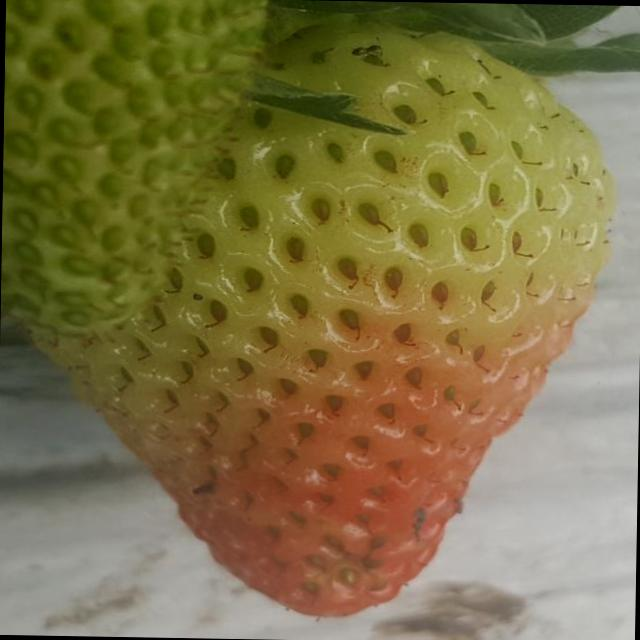Strawberry: (11, 0, 621, 622), (0, 0, 254, 345)
